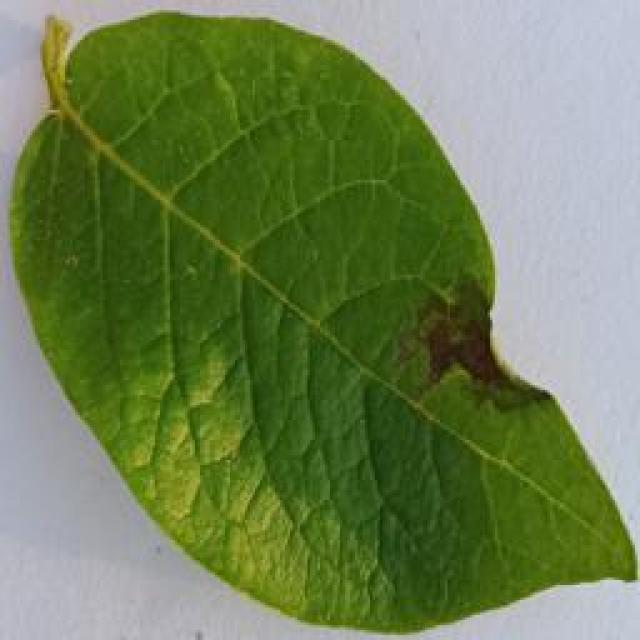Potato_Late_Blight: (5, 6, 630, 634)
